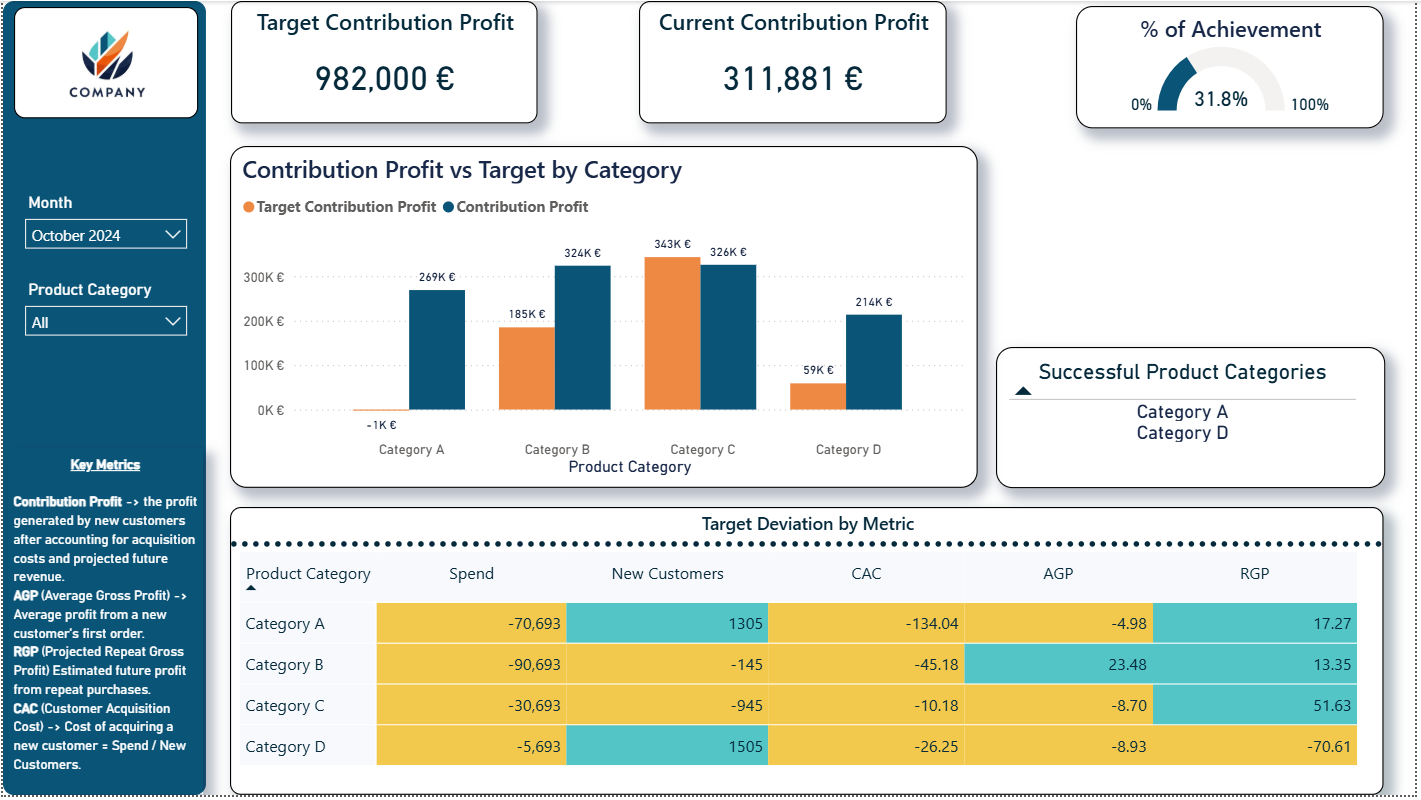

The page's visual inventory and layout, read from the dashboard file:
{"tool":"powerbi","page":{"name":"Product Category Overview","canvas":[1280,720],"ordinal":0},"visuals":[{"type":"shape","box":[0,0,184.1,720.3],"z":0},{"type":"card","title":"Current Contribution Profit","fields":{"Values":["Orders.Contribution Profit"]},"box":[576.7,0,278.9,111.1],"z":1000},{"type":"card","title":"Target Contribution Profit","fields":{"Values":["Orders.Target Contribution Profit"]},"box":[206.7,0,278,111.1],"z":2000},{"type":"gauge","title":"% of Achievement","fields":{"Y":["Orders.Gauge"]},"box":[973.3,4.4,278.9,111.1],"z":3000},{"type":"clusteredColumnChart","title":"Contribution Profit vs Target by Category","fields":{"Category":["Products.Product_Category"],"Y":["Orders.Target Contribution Profit","Orders.Contribution Profit"]},"box":[206.2,131.2,677.5,310],"z":4000},{"type":"tableEx","title":"Underperforming Categories","fields":{"Values":["Products.Product_Category"]},"box":[900,313.8,352.5,127.5],"z":6000},{"type":"textbox","box":[4.4,405.6,176.7,314.4],"z":7000},{"type":"slicer","fields":{"Values":["Products.Product_Category"]},"box":[10,248.8,166.7,75.9],"z":8000},{"type":"slicer","fields":{"Values":["Orders.Order_Date"]},"box":[10,169.2,166.7,70.9],"z":9000},{"type":"image","box":[10,5.7,166.7,101],"z":11000},{"type":"pivotTable","title":"Target Deviation by Metric","fields":{"Rows":["Products.Product_Category"],"Values":["Orders.Spend_FS","Orders.NewCustomers_FS","Orders.CAC_FS","Orders.AGP_FS","Orders.RGP_FS"]},"box":[206.2,458.8,1046.2,261.2],"z":12000}]}

Visuals, with their boxes in screenshot pixels (x1, y1, x2, y2), scaled from the page's 1280x720 canvas onto the 1421x800 screenshot:
shape: {"x1": 0, "y1": 0, "x2": 204, "y2": 799}
"Current Contribution Profit" card: {"x1": 640, "y1": 0, "x2": 950, "y2": 123}
"Target Contribution Profit" card: {"x1": 229, "y1": 0, "x2": 538, "y2": 123}
"% of Achievement" gauge: {"x1": 1081, "y1": 5, "x2": 1390, "y2": 128}
"Contribution Profit vs Target by Category" clusteredColumnChart: {"x1": 229, "y1": 146, "x2": 981, "y2": 490}
"Underperforming Categories" tableEx: {"x1": 999, "y1": 349, "x2": 1390, "y2": 490}
textbox: {"x1": 5, "y1": 451, "x2": 201, "y2": 799}
slicer - Products.Product_Category: {"x1": 11, "y1": 276, "x2": 196, "y2": 361}
slicer - Orders.Order_Date: {"x1": 11, "y1": 188, "x2": 196, "y2": 267}
image: {"x1": 11, "y1": 6, "x2": 196, "y2": 119}
"Target Deviation by Metric" pivotTable: {"x1": 229, "y1": 510, "x2": 1390, "y2": 799}
